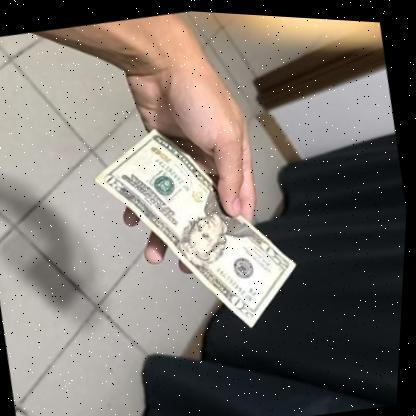twenty-front: (78, 100, 315, 356)
